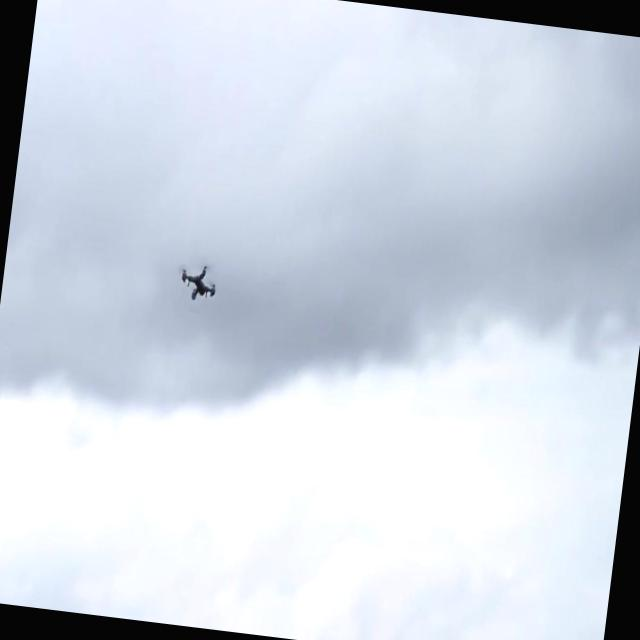drone: (175, 256, 221, 308)
